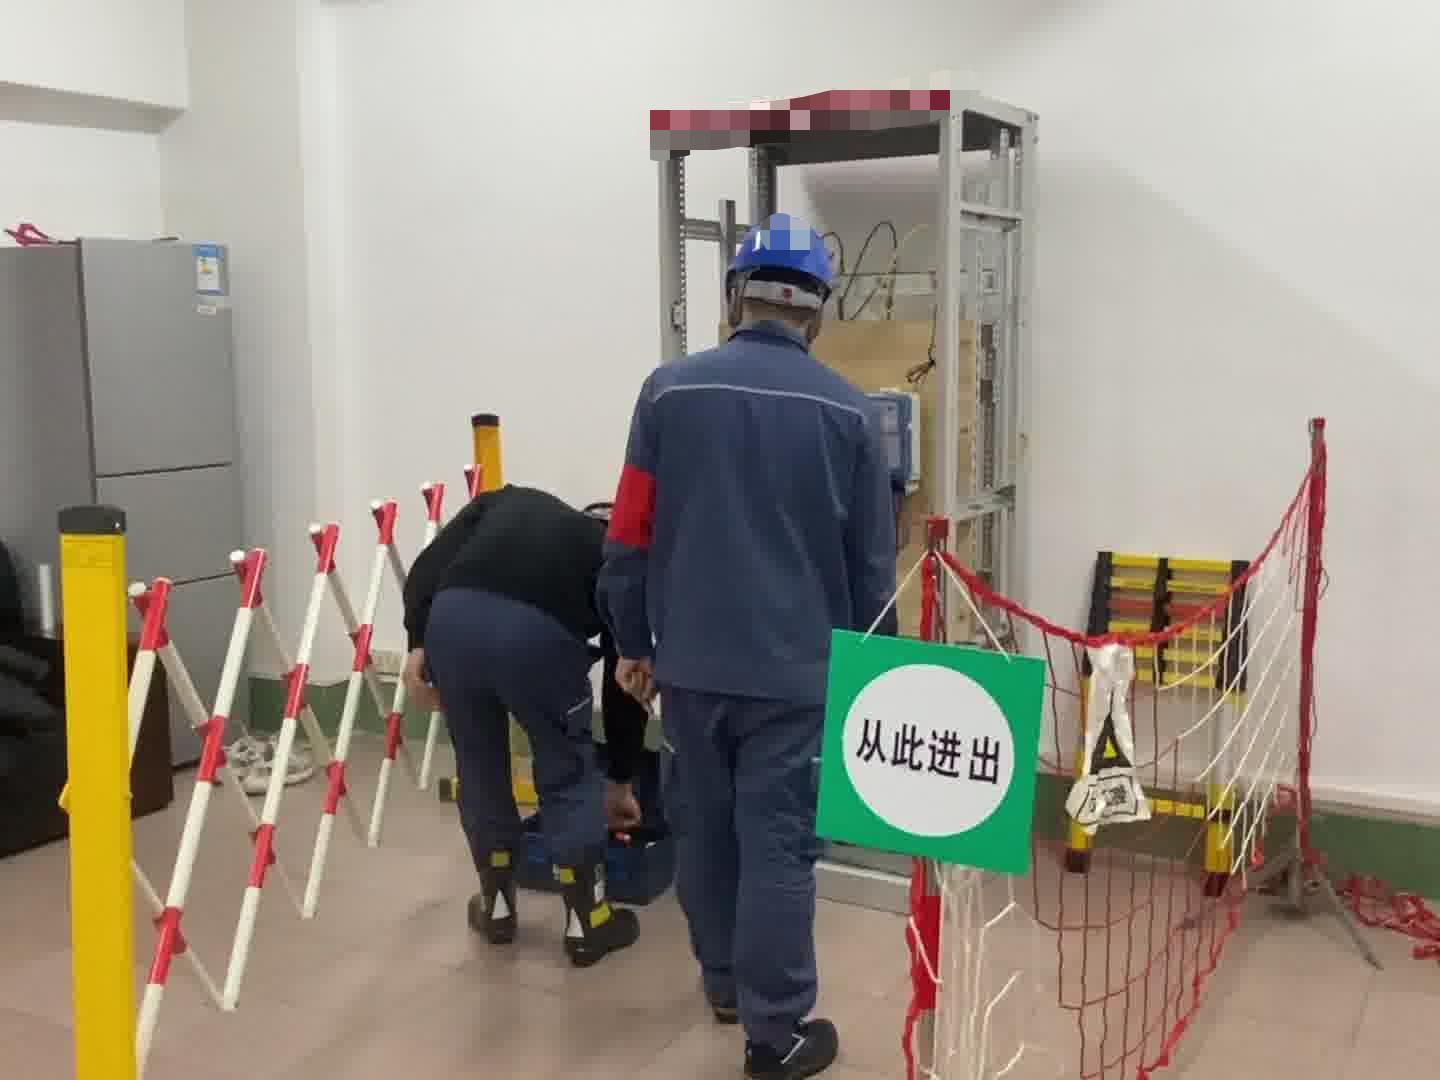halt: (726, 221, 841, 340)
